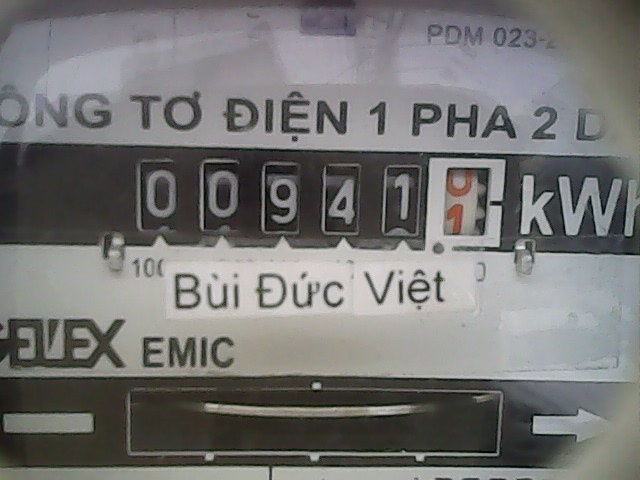phy_plate: (118, 143, 515, 258)
